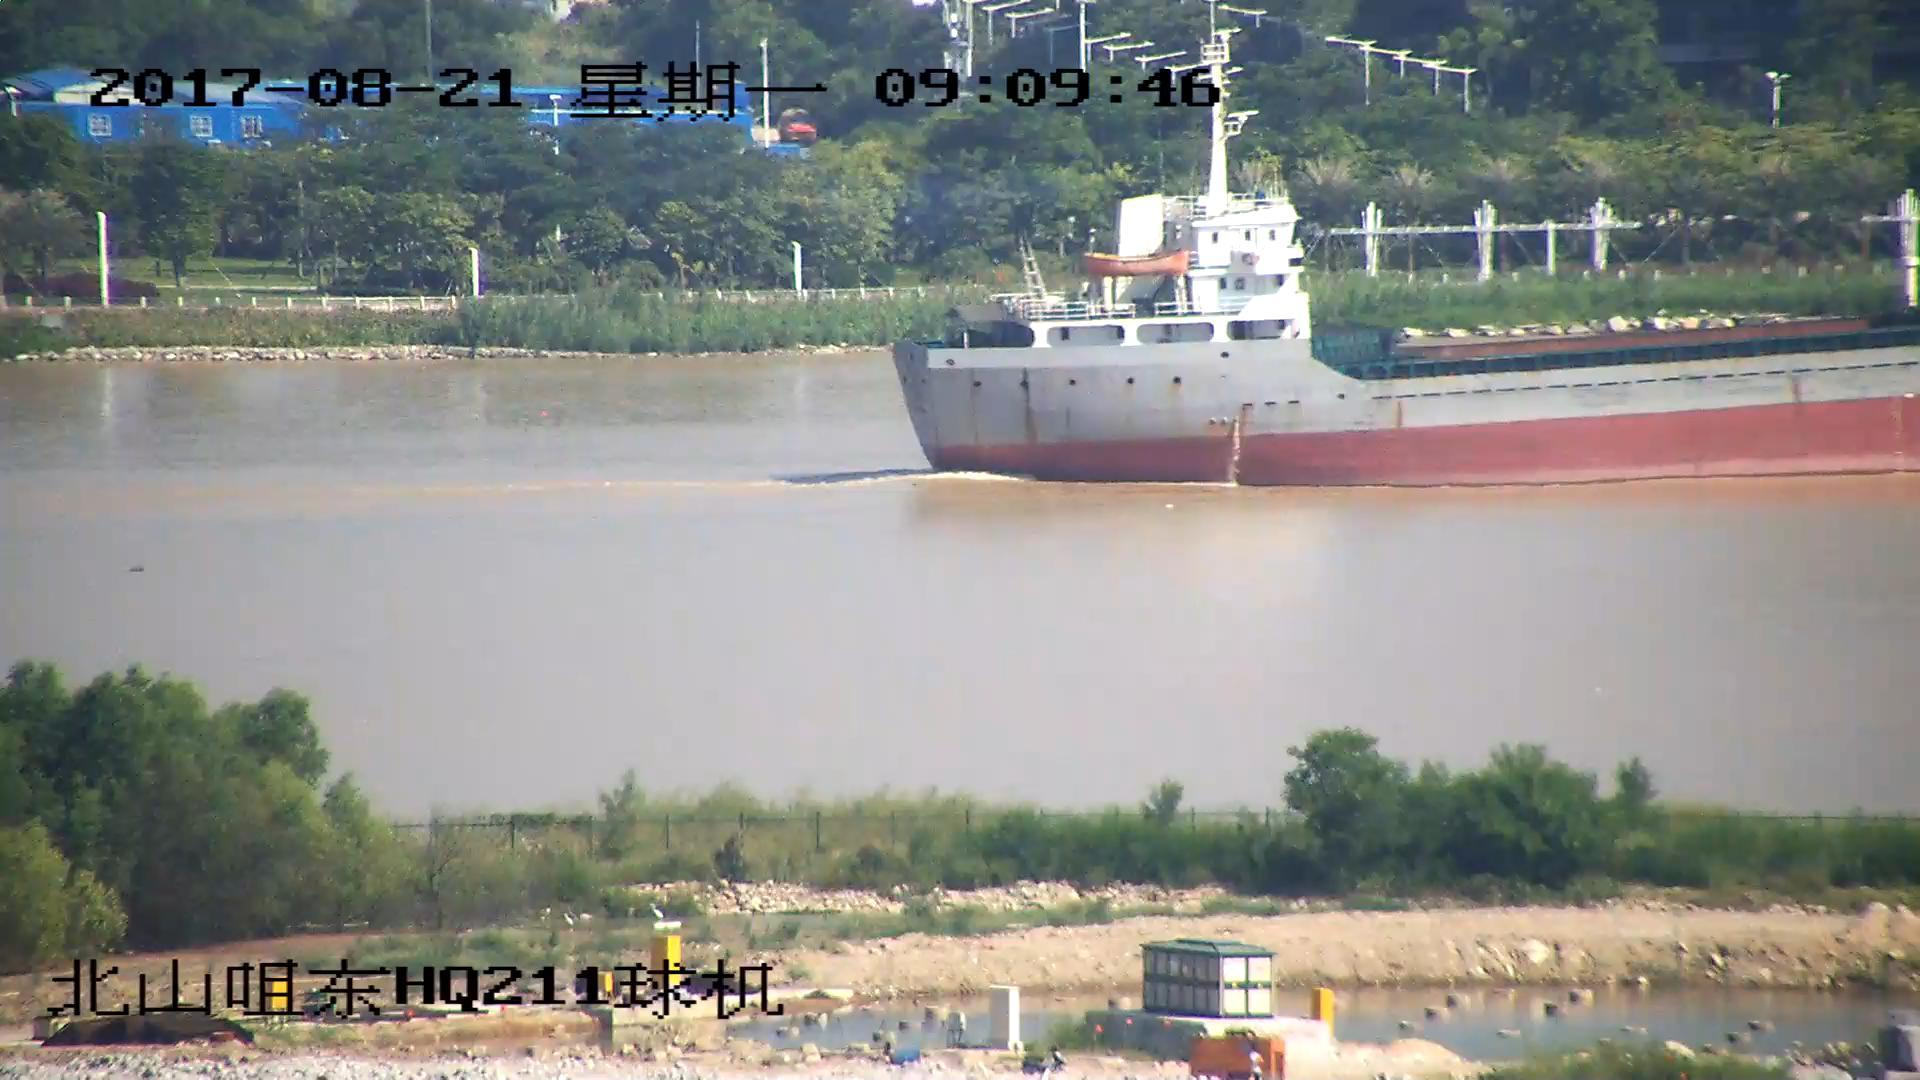Ship: (895, 113, 1920, 485)
